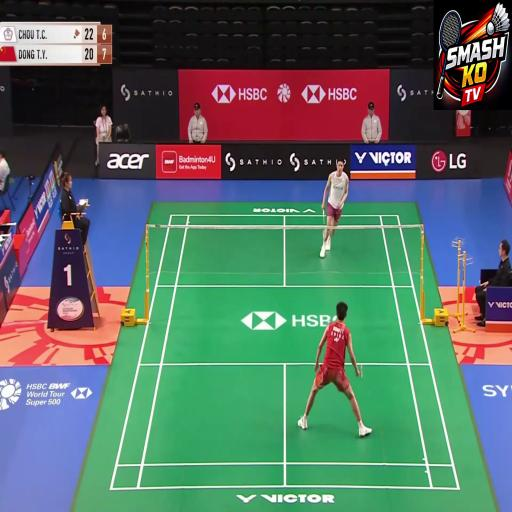player: (299, 271, 370, 456), (320, 138, 355, 282)
